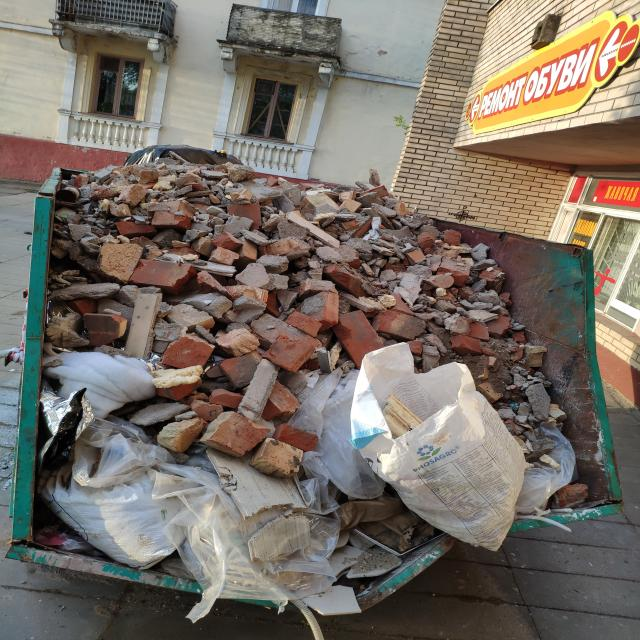entulho: (369, 343, 534, 552), (31, 402, 199, 572), (193, 535, 364, 619), (205, 442, 318, 568), (285, 366, 387, 503), (52, 349, 164, 410), (517, 425, 577, 515), (307, 583, 364, 616)
